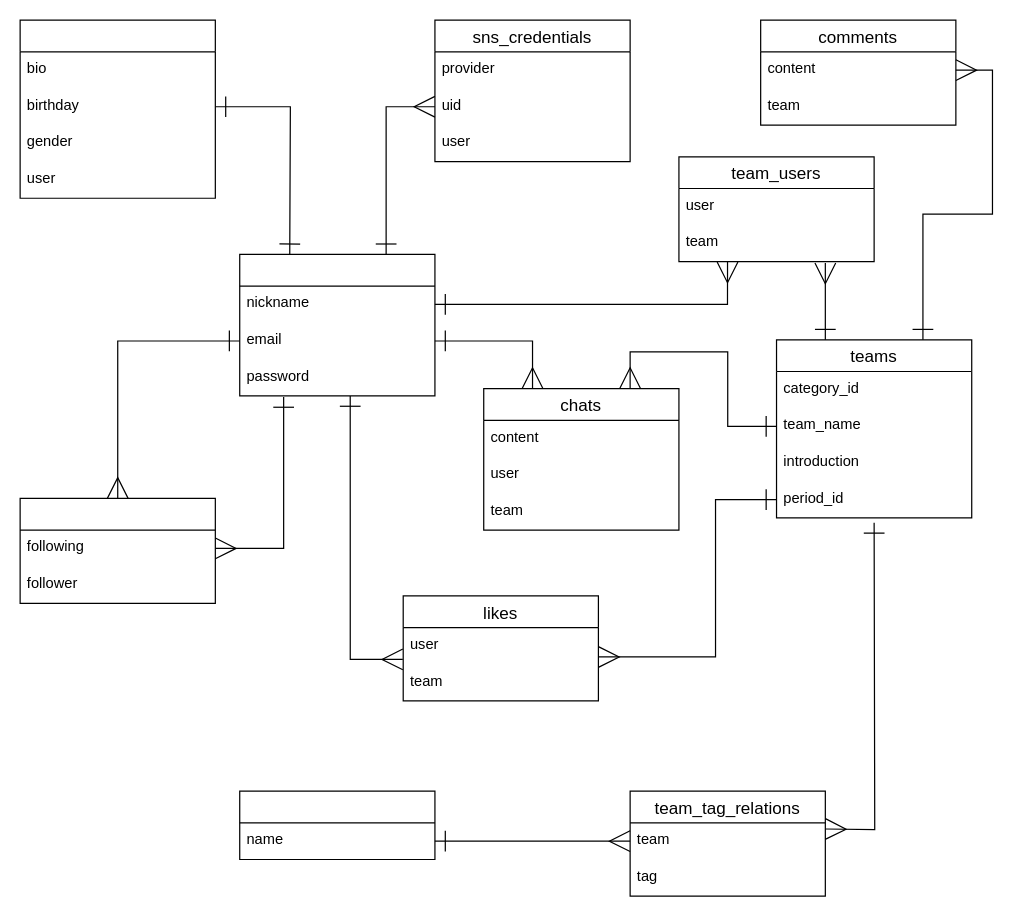
The diagram is 1013 pixels wide and 916 high, and some of its shapes have lost their labels. The box of each missing label's shape, as (x1, y1, x2, y2) in pixels:
profiles: (19, 19, 215, 198)
relationships: (19, 497, 215, 603)
tags: (239, 790, 435, 859)
users: (239, 253, 435, 396)
